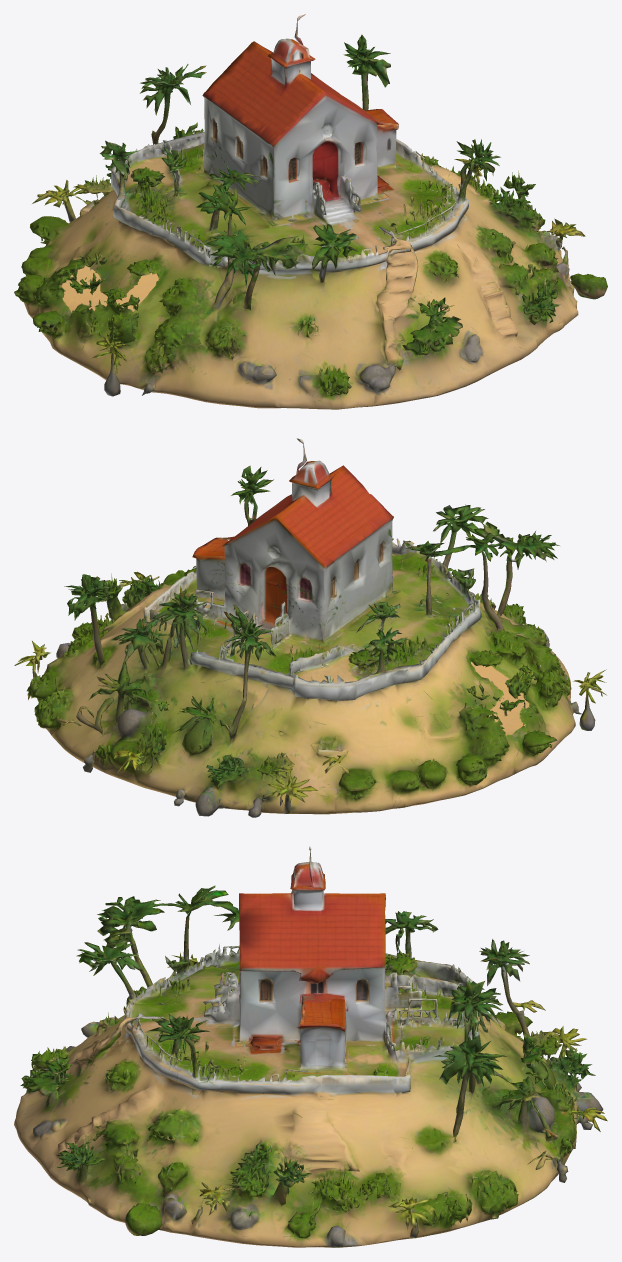
File: island_7.glb
The picture shows the model from 3 angles, top to bottom: view 1: azimuth 30°, elevation 25°; view 2: azimuth 150°, elevation 25°; view 3: azimuth 270°, elevation 25°; orthographic projection. The views are drawn at different scales.
Bounding box in the file's own units: 1.96 × 1.04 × 1.94.
Materials: 1 (1 with a texture image).
